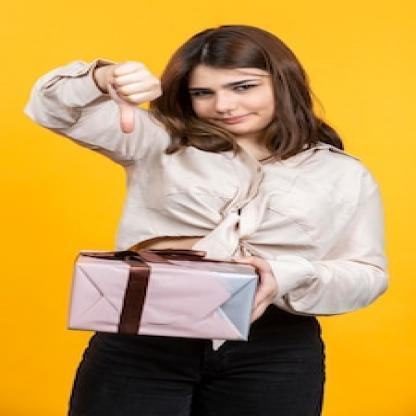thumb_down: (103, 54, 162, 136)
